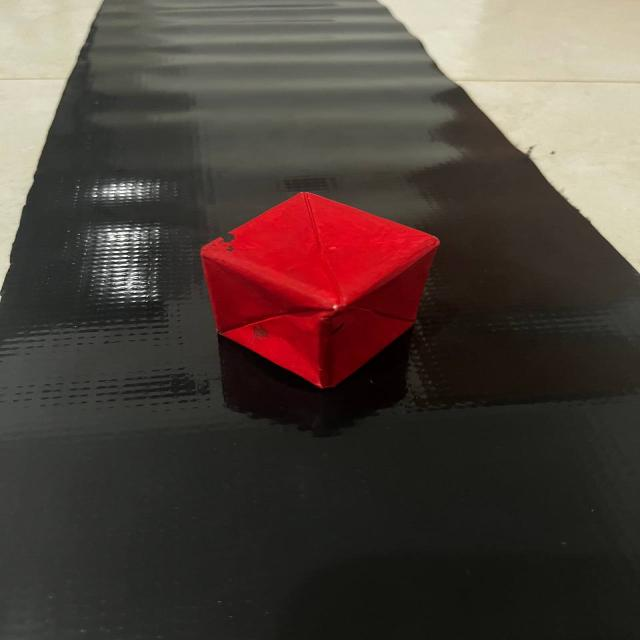Rojo: (187, 178, 457, 409)
